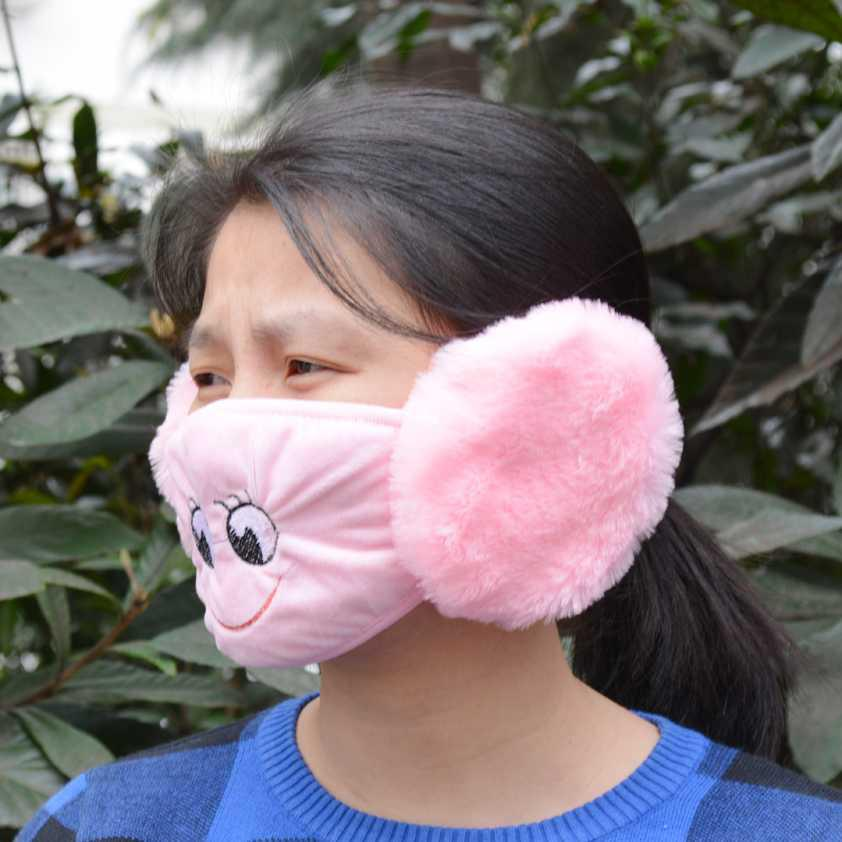OK: (162, 305, 529, 672)
